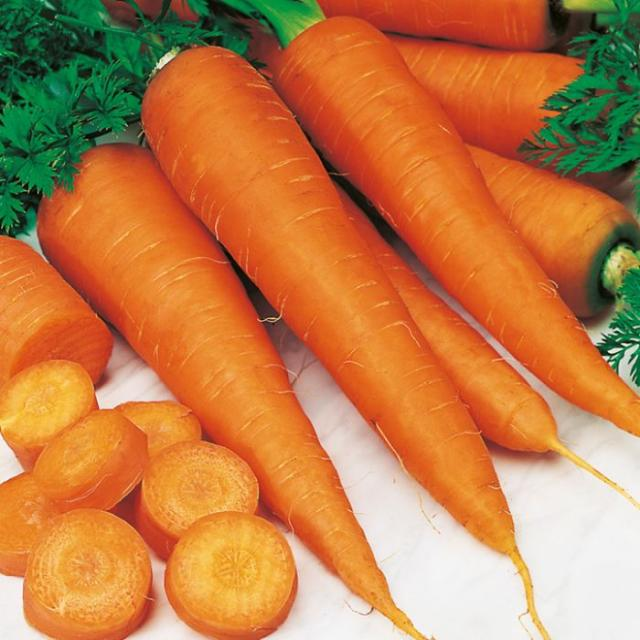Fresh_Carrot: (128, 44, 545, 640), (261, 0, 640, 437)
